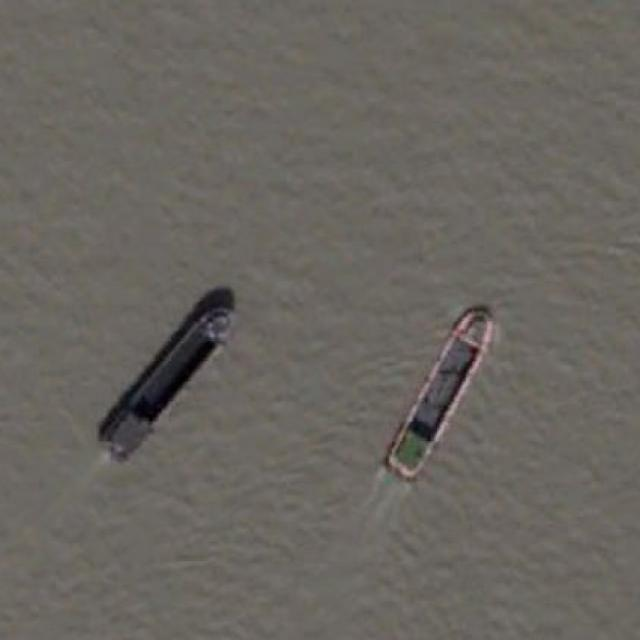ship: (96, 299, 238, 463), (383, 300, 497, 483)
